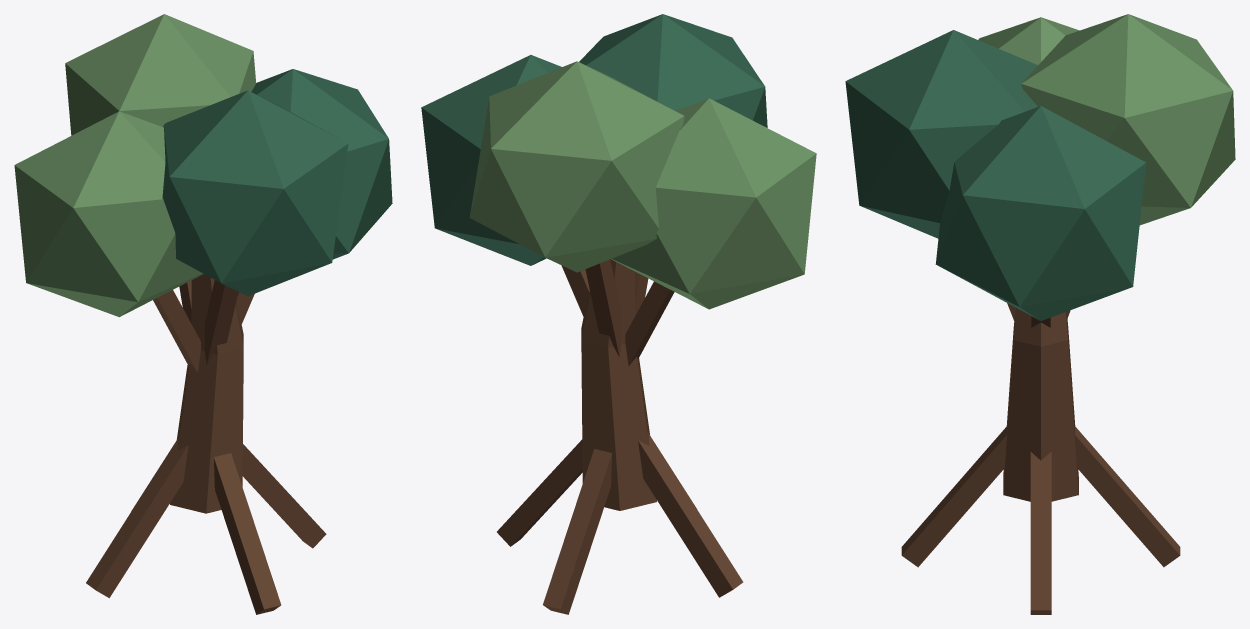
Rendered from PirateCove_Mangrove_Simple.glb.
3 views of the same model, side by side, from view 1: azimuth 30°, elevation 25°; view 2: azimuth 150°, elevation 25°; view 3: azimuth 270°, elevation 25° (orthographic). The views are drawn at different scales.
Parts seen in each view (by area): view 1: PirateCove_Mangrove_Simple; view 2: PirateCove_Mangrove_Simple; view 3: PirateCove_Mangrove_Simple.
Boxes of the visible parts, x1=… form: PirateCove_Mangrove_Simple: x1=14, y1=14, x2=392, y2=614; PirateCove_Mangrove_Simple: x1=421, y1=14, x2=816, y2=614; PirateCove_Mangrove_Simple: x1=845, y1=14, x2=1235, y2=614.
Bounding box in the file's own units: 2.46 × 3.47 × 2.23.
